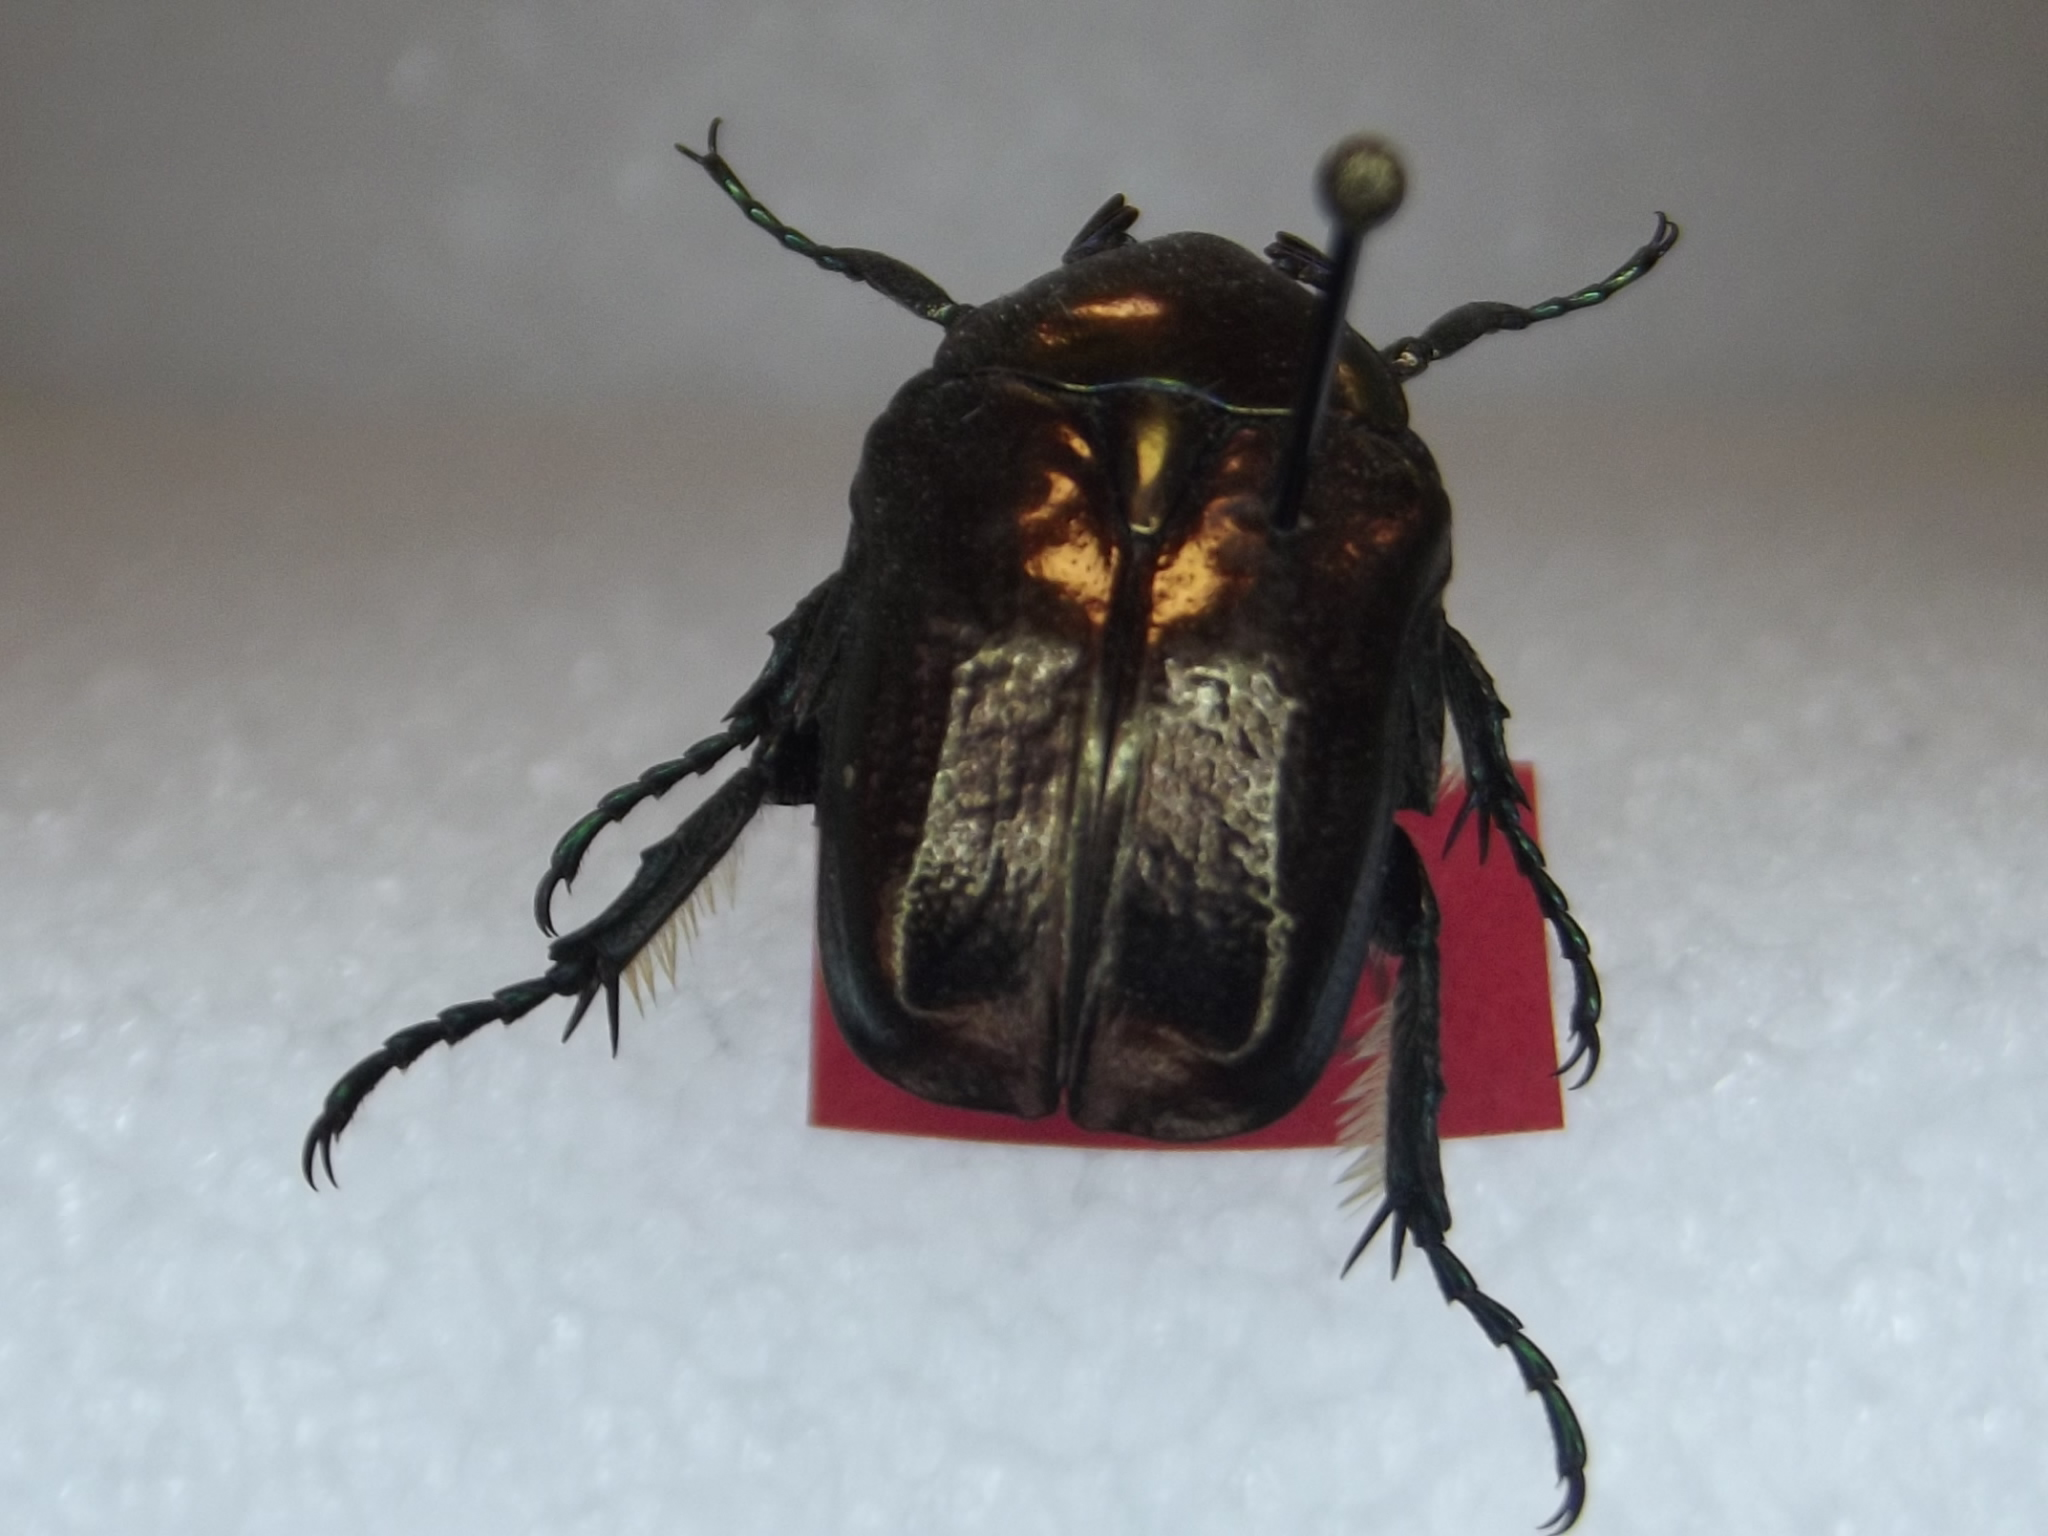Protaetia_besucheti: (279, 94, 1700, 1526)
